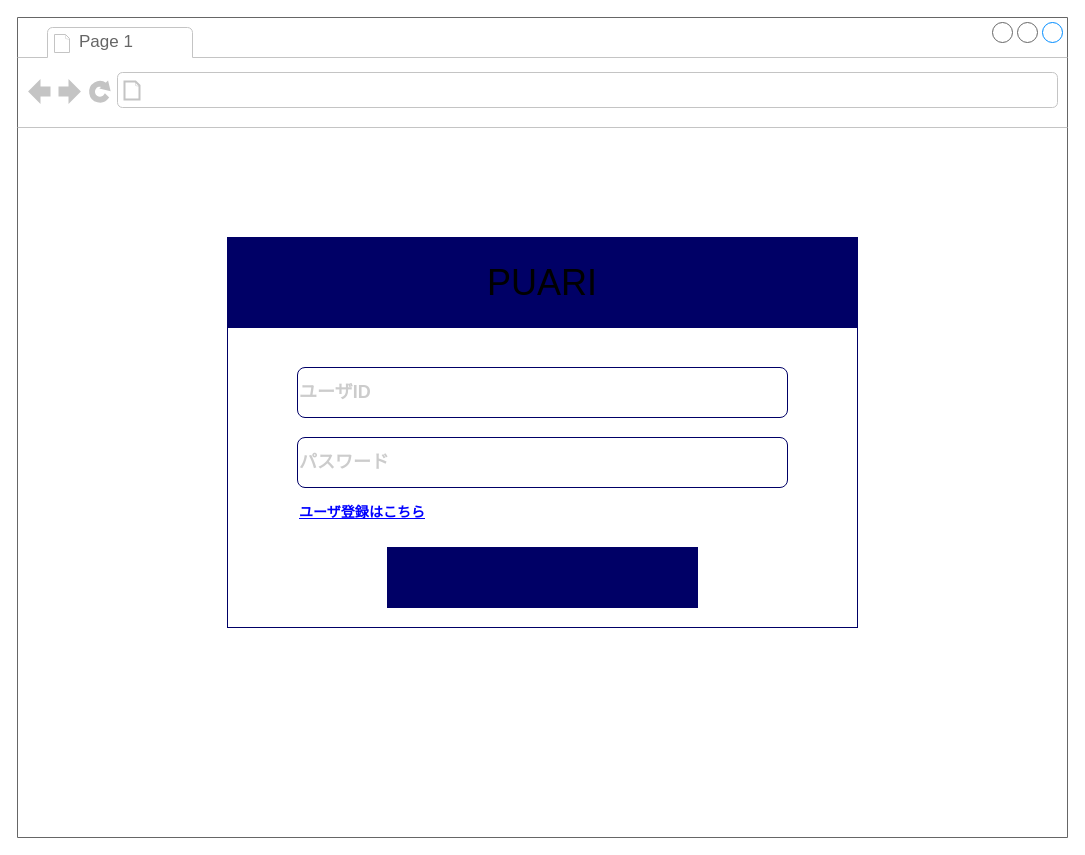
Some shapes in this 1085 by 855 pixel diagram are drawn without their labels. Here are the shapes that lost their labels. From the top down, the box of each, then its label:
(146, 76, 398, 104): https://www.default.com
(386, 546, 698, 608): ENTER
